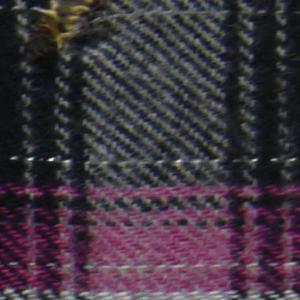Damage: (37, 1, 97, 54)
Oil Stain: (8, 1, 122, 69)
